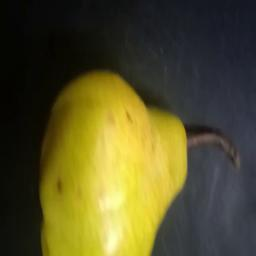Pear Semifresh: (33, 67, 240, 256)
